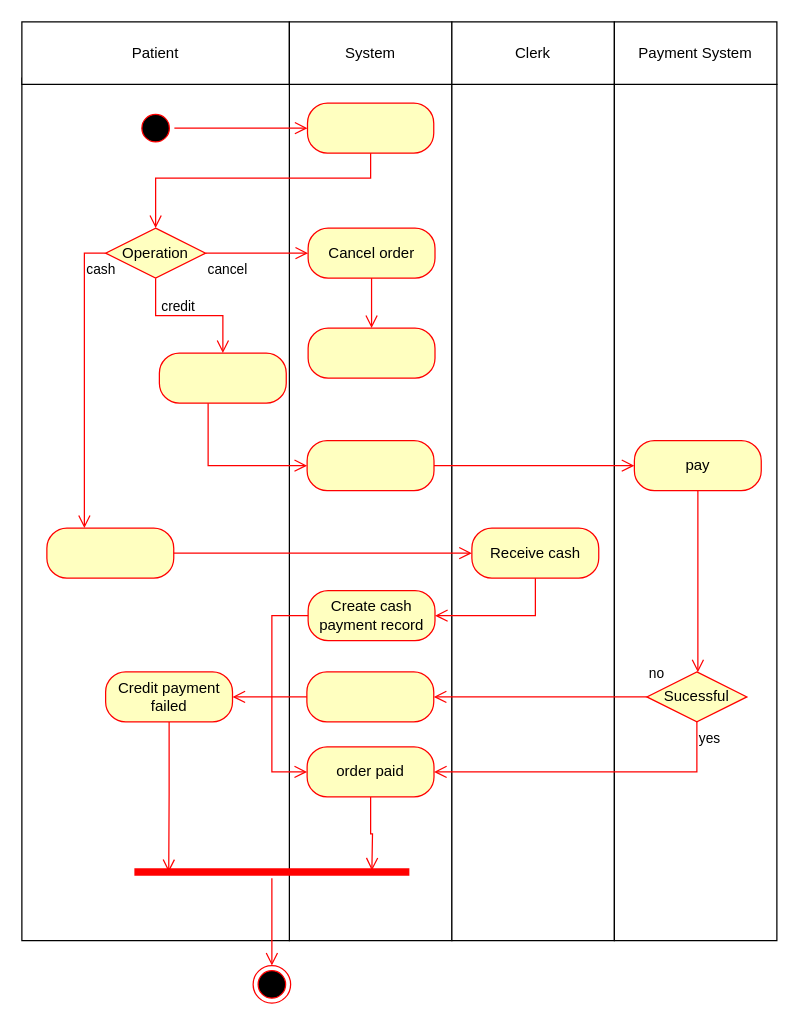
Some shapes in this 799 by 1025 pixel diagram are drawn without their labels. The shapes that lost their labels are listed below. From the top down, each one's centre as x and y in pixels, then its label:
At point 370,127: "check orders".
At point 371,352: "Cancel appointment / meditation".
At point 222,377: "Submit credit payment".
At point 370,465: "Create credit payment record".
At point 110,552: "Pay cash".
At point 370,696: "order not paid".
